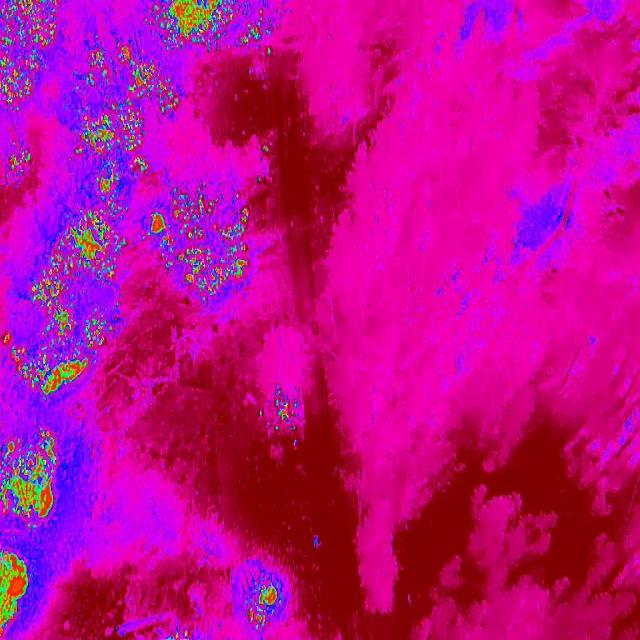fire: (144, 189, 258, 302), (0, 311, 114, 397), (24, 208, 120, 310), (80, 39, 188, 116), (72, 108, 152, 197), (0, 429, 62, 532), (0, 0, 56, 108), (148, 0, 238, 51), (257, 384, 308, 440), (245, 574, 292, 634), (0, 549, 32, 635), (237, 18, 274, 58), (6, 142, 34, 176)
